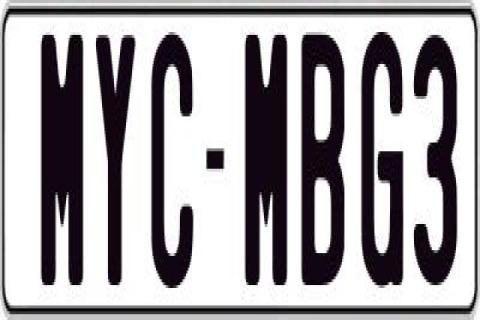0: (410, 32, 454, 288)
B: (298, 35, 342, 299)
C: (149, 27, 197, 280)
G: (362, 27, 404, 297)
M: (40, 29, 84, 291), (242, 29, 284, 288)
Y: (94, 35, 138, 297)
